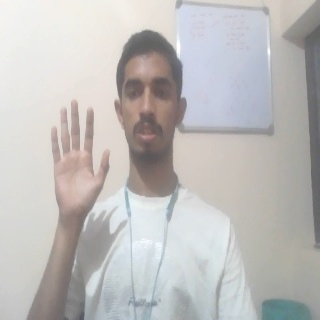Face: (111, 27, 189, 167)
Hello: (48, 99, 111, 225)
